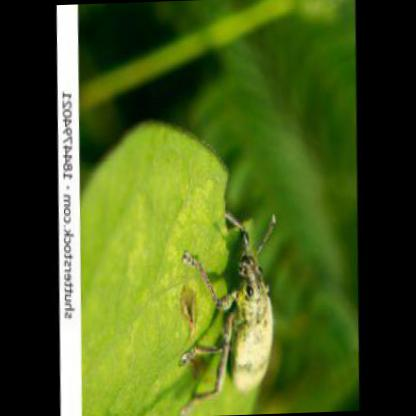ash weevil: (183, 211, 278, 403)
